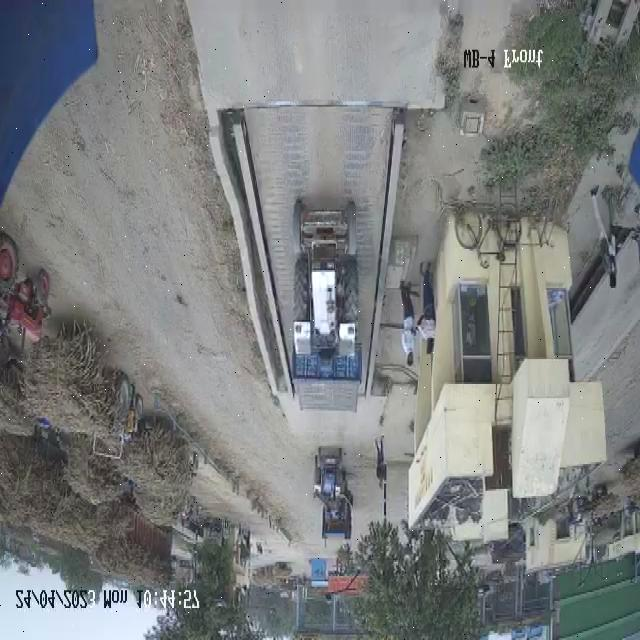Tratores - v5 YOLO V8L 2024-11-13: (288, 193, 360, 363), (0, 231, 54, 356), (312, 444, 354, 502)
